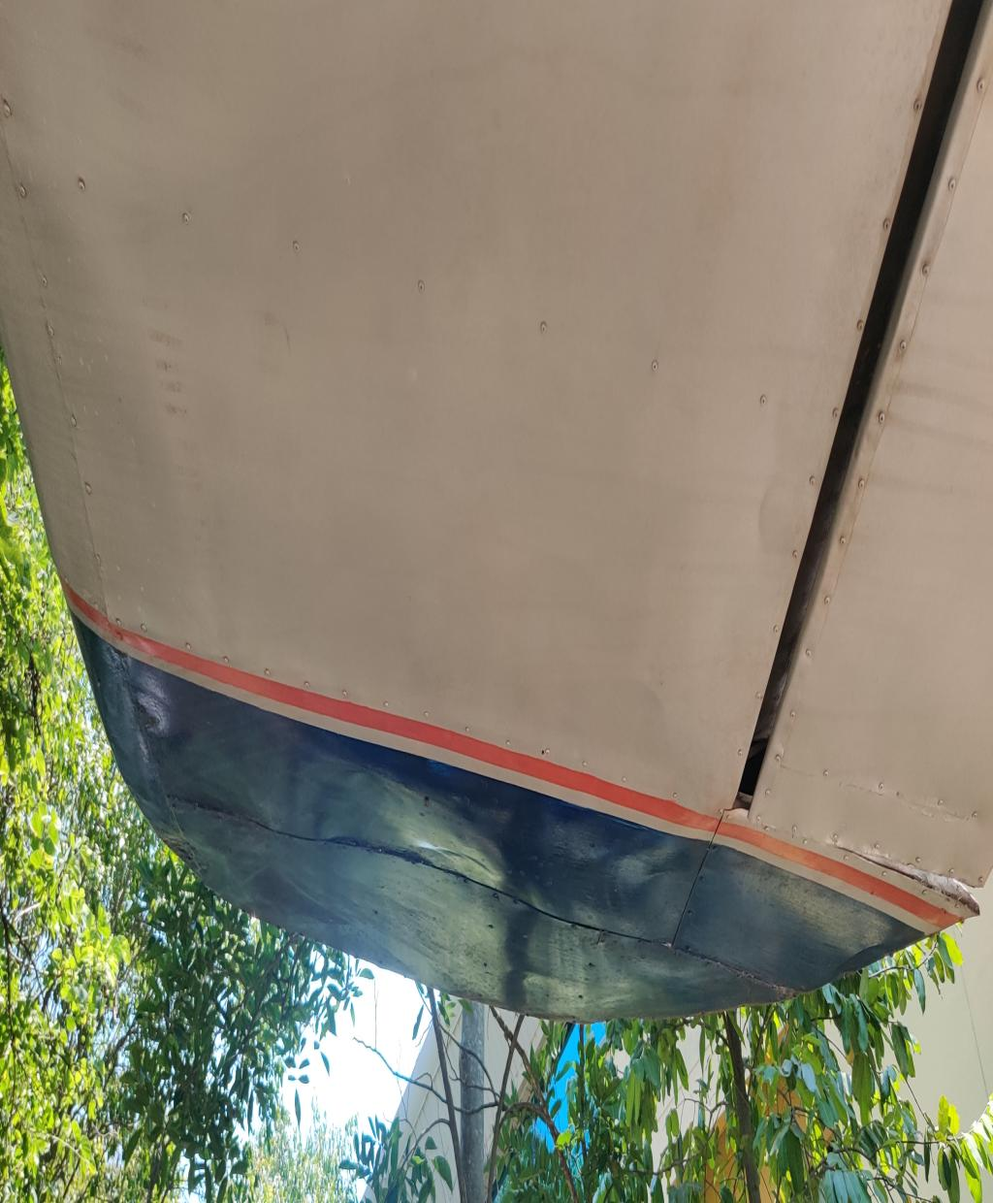dent: (119, 620, 177, 772)
